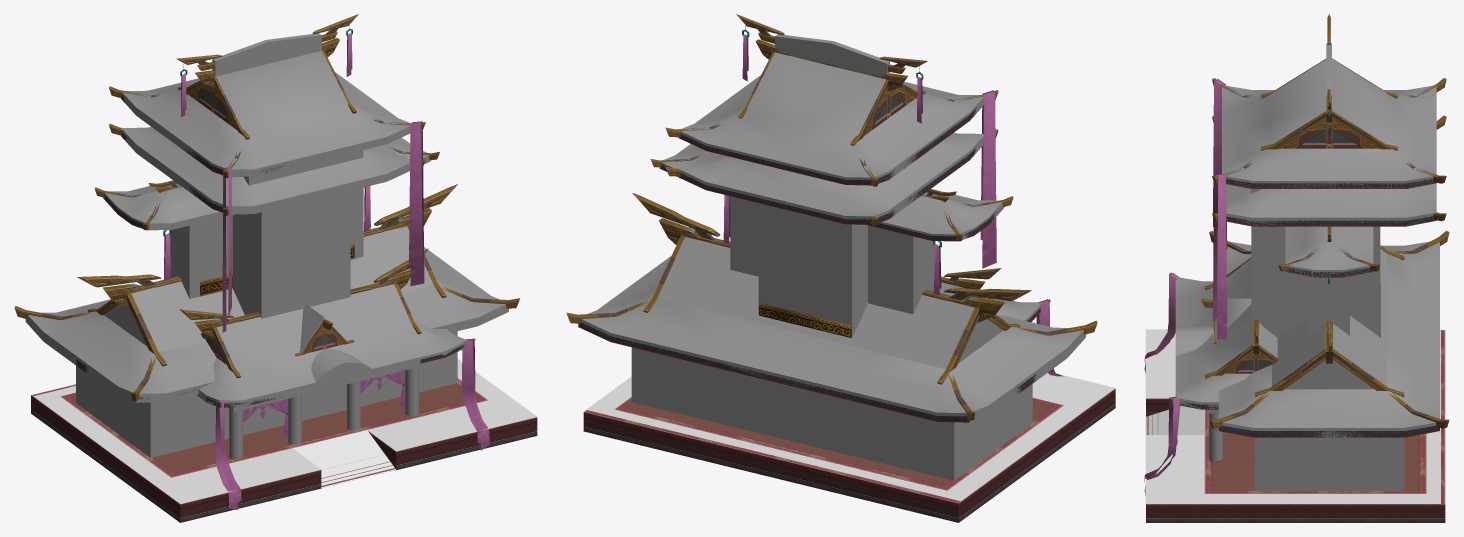
The model's file is Scene_Build_HuanYinFang_ZhuDian_1.FBX.
The picture shows the model from 3 angles, left to right: view 1: azimuth 30°, elevation 25°; view 2: azimuth 150°, elevation 25°; view 3: azimuth 270°, elevation 25°; orthographic projection. The views are drawn at different scales.
Parts seen in each view (by area): view 1: Scene_Build_HuanYinFang_ZhuDian_1_Xzm, Scene_Build_HuanYinFang_ZhuDian_1b, Scene_Build_HuanYinFang_ZhuDian_1_P_Xzm, Scene_Build_HuanYinFang_ZhuDian_1a, Scene_Build_HuanYinFang_ZhuDian_1c; view 2: Scene_Build_HuanYinFang_ZhuDian_1_Xzm, Scene_Build_HuanYinFang_ZhuDian_1b, Scene_Build_HuanYinFang_ZhuDian_1a, Scene_Build_HuanYinFang_ZhuDian_1_P_Xzm, Scene_Build_HuanYinFang_ZhuDian_1c; view 3: Scene_Build_HuanYinFang_ZhuDian_1_Xzm, Scene_Build_HuanYinFang_ZhuDian_1b, Scene_Build_HuanYinFang_ZhuDian_1_P_Xzm, Scene_Build_HuanYinFang_ZhuDian_1a, Scene_Build_HuanYinFang_ZhuDian_1c.
Part boxes in pixels (box(x1,y1,x2,y2)): Scene_Build_HuanYinFang_ZhuDian_1_Xzm: box(25, 33, 508, 458); Scene_Build_HuanYinFang_ZhuDian_1b: box(31, 95, 537, 522); Scene_Build_HuanYinFang_ZhuDian_1_P_Xzm: box(33, 359, 536, 503); Scene_Build_HuanYinFang_ZhuDian_1a: box(14, 14, 520, 407); Scene_Build_HuanYinFang_ZhuDian_1c: box(164, 33, 489, 510); Scene_Build_HuanYinFang_ZhuDian_1_Xzm: box(581, 34, 1085, 480); Scene_Build_HuanYinFang_ZhuDian_1b: box(578, 108, 1115, 522); Scene_Build_HuanYinFang_ZhuDian_1a: box(566, 14, 1097, 420); Scene_Build_HuanYinFang_ZhuDian_1_P_Xzm: box(586, 373, 1115, 501); Scene_Build_HuanYinFang_ZhuDian_1c: box(723, 34, 1063, 376); Scene_Build_HuanYinFang_ZhuDian_1_Xzm: box(1175, 43, 1439, 491); Scene_Build_HuanYinFang_ZhuDian_1b: box(1146, 179, 1445, 522); Scene_Build_HuanYinFang_ZhuDian_1_P_Xzm: box(1145, 329, 1440, 503); Scene_Build_HuanYinFang_ZhuDian_1a: box(1169, 14, 1449, 462); Scene_Build_HuanYinFang_ZhuDian_1c: box(1144, 79, 1330, 495).
Size of the model in its own units: 4404 by 4076 by 2984.
